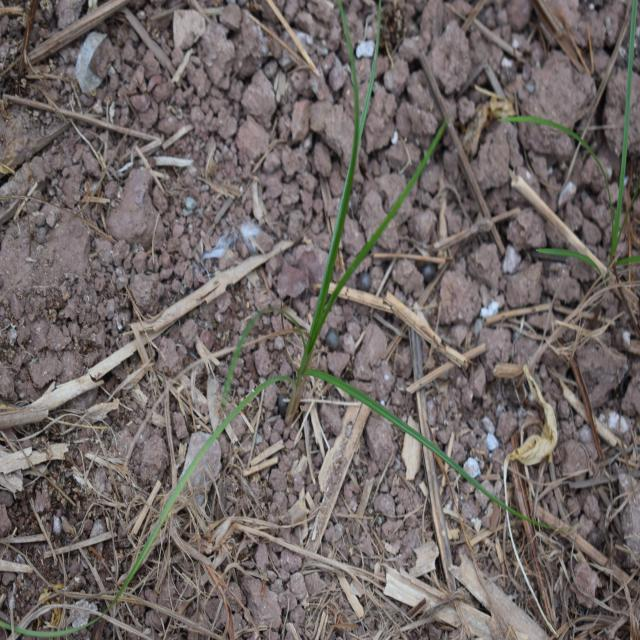sedge: (162, 26, 492, 520)
